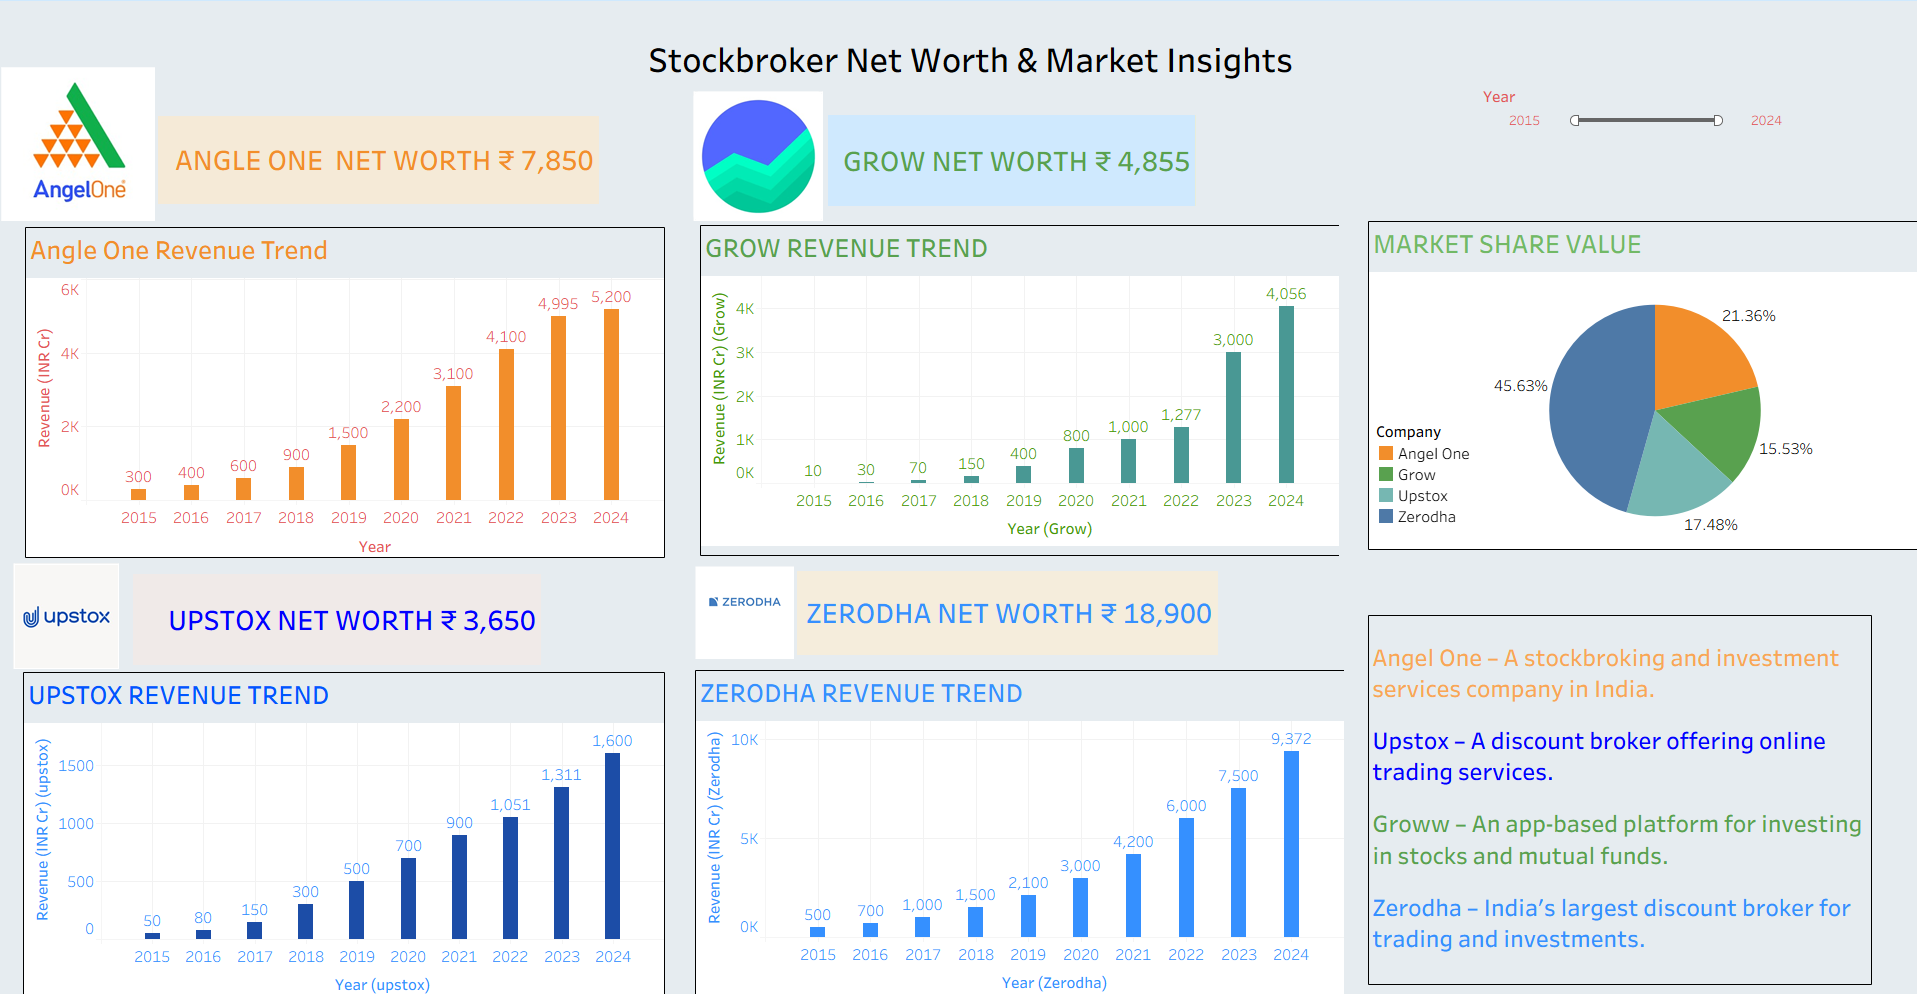

The page's visual inventory and layout, read from the dashboard file:
{"tool":"tableau","page":{"name":"Dashboard 1","canvas":[1000,1000],"units":"permille","ordinal":0},"visuals":[{"type":"worksheet","title":"Sheet 5 (2)","mark":"Automatic","box":[607,47.6,194.4,118.5]},{"type":"worksheet","title":"Sheet 5","mark":"Automatic","box":[85.8,59.2,237.3,95.2]},{"type":"image","param":"Image/IMG-20250917-WA0028.jpg","box":[492.1,69.7,138.8,95.2]},{"type":"filter","title":"Sheet 1","param":"[federated.19bdsbw06x80741b1lqpw1bcte57].[none:Year:qk]","box":[829.5,92.9,84.8,75.5]},{"type":"worksheet","title":"Sheet 1","mark":"Bar","rows":["Revenue (INR Cr)"],"cols":["Year"],"box":[4.8,160.3,413.1,334.5]},{"type":"worksheet","title":"Sheet 2","mark":"Bar","rows":["Revenue (INR Cr) (Grow)"],"cols":["Year (Grow)"],"box":[448.4,170.7,368.1,327.5]},{"type":"legend","title":"Sheet 6","param":"[federated.19bdsbw06x80741b1lqpw1bcte57].[none:Company:nk]","box":[831.6,393.7,67.8,127.8]},{"type":"worksheet","title":"Sheet 5 (3)","mark":"Automatic","box":[160,505.2,205,109.2]},{"type":"image","param":"Image/4a8fc04a855b4e7a968e268b08543958.jpg","box":[471.9,509.9,151.5,117.3]},{"type":"image","param":"Image/IMG-20250917-WA0031.jpg","box":[4.8,515.7,151,96.4]},{"type":"worksheet","title":"Sheet 5 (4)","mark":"Automatic","box":[584.2,515.7,225.1,106.9]},{"type":"worksheet","title":"Sheet 4","mark":"Bar","rows":["Revenue (INR Cr) (Zerodha)"],"cols":["Year (Zerodha)"],"box":[446.5,633,368.1,362.4]},{"type":"worksheet","title":"Sheet 3","mark":"Bar","rows":["Revenue (INR Cr) (upstox)"],"cols":["Year (upstox)"],"box":[5.3,636.5,415.8,356.6]}]}

Visuals, with their boxes on the dashboard's canvas, which has no fixed pixel size, in thousandths of its width and height (x1, y1, x2, y2). These are canvas units, not pixel positions in the 1917x994 screenshot, which may show the page scaled, cropped or inside an application window:
"Sheet 5 (2)" worksheet: <region>607, 48, 801, 166</region>
"Sheet 5" worksheet: <region>86, 59, 323, 154</region>
image: <region>492, 70, 631, 165</region>
"Sheet 1" filter: <region>830, 93, 914, 168</region>
"Sheet 1" worksheet (Bar marks): <region>5, 160, 418, 495</region>
"Sheet 2" worksheet (Bar marks): <region>448, 171, 816, 498</region>
"Sheet 6" legend: <region>832, 394, 899, 522</region>
"Sheet 5 (3)" worksheet: <region>160, 505, 365, 614</region>
image: <region>472, 510, 623, 627</region>
image: <region>5, 516, 156, 612</region>
"Sheet 5 (4)" worksheet: <region>584, 516, 809, 623</region>
"Sheet 4" worksheet (Bar marks): <region>446, 633, 815, 995</region>
"Sheet 3" worksheet (Bar marks): <region>5, 636, 421, 993</region>
